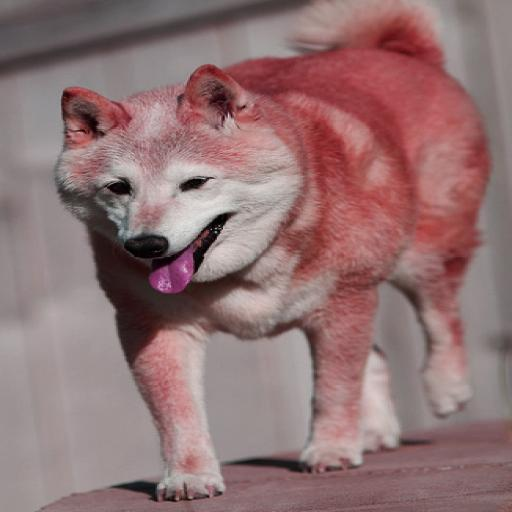dog_face: (52, 78, 298, 289)
